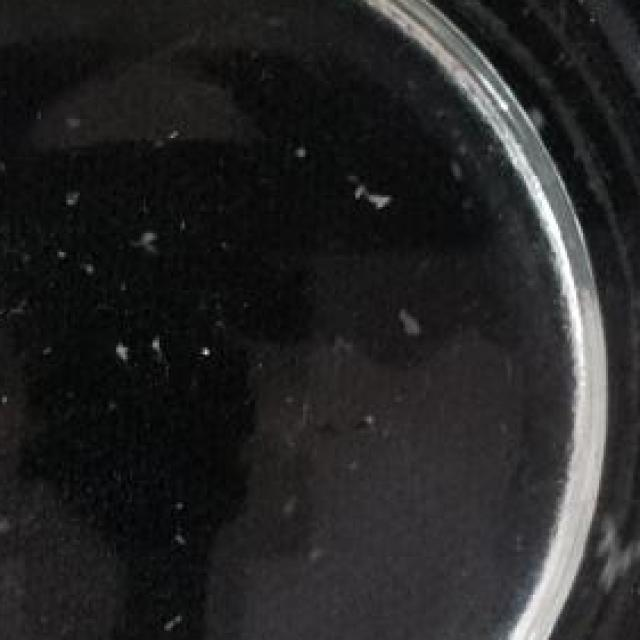Microplastic: (382, 276, 432, 350), (594, 524, 640, 600), (344, 155, 401, 214), (515, 86, 558, 157), (105, 321, 146, 381), (0, 364, 9, 440)
